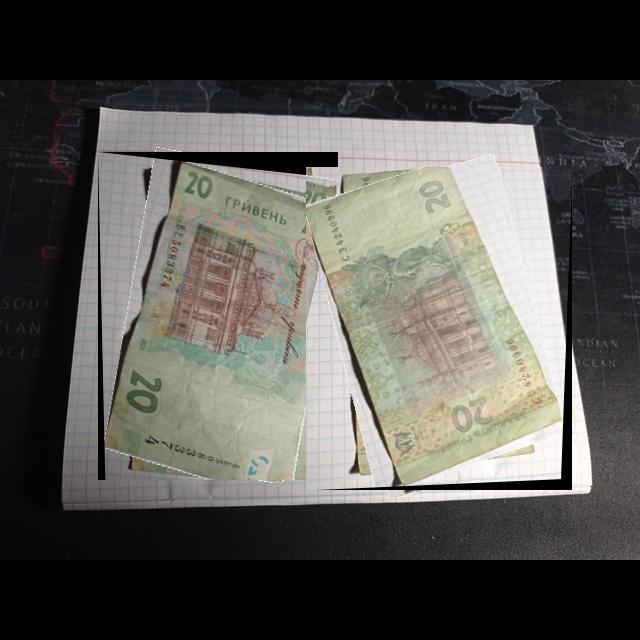20uah: (306, 167, 566, 488), (104, 160, 339, 481)
